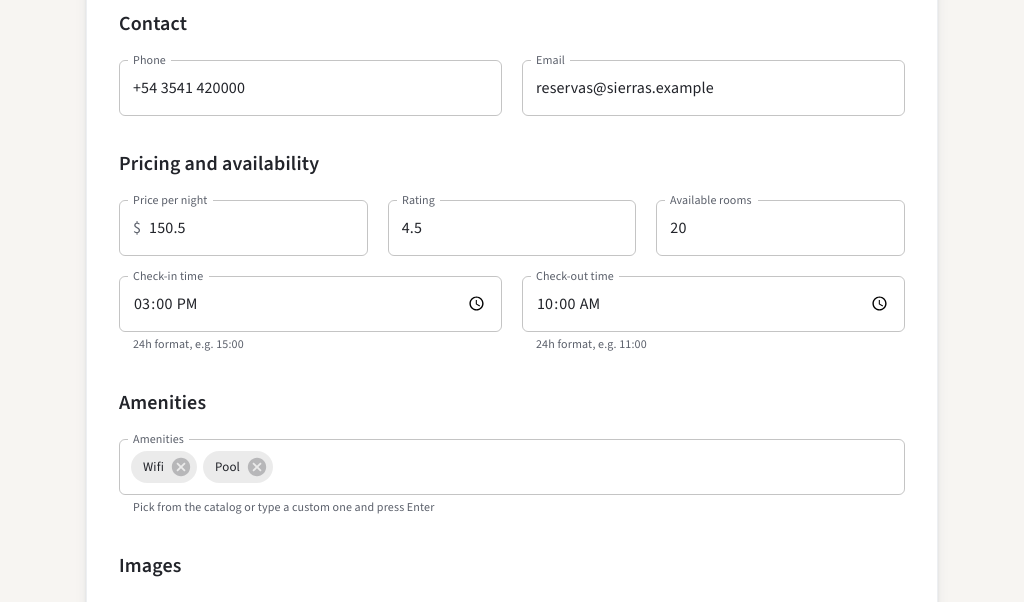
Test case: edición envía PUT completo con precio/capacidad/rating cero e imágenes vacías
This screenshot has width=1024, height=602.
(page scrolled)
Replace the text in the number field labelled "Price per night" with "0": coordinates (258, 228) x1=149 y1=200 x2=368 y2=256
Replace the text in the number field labelled "Available rooms" with "0": coordinates (781, 228) x1=656 y1=200 x2=905 y2=256
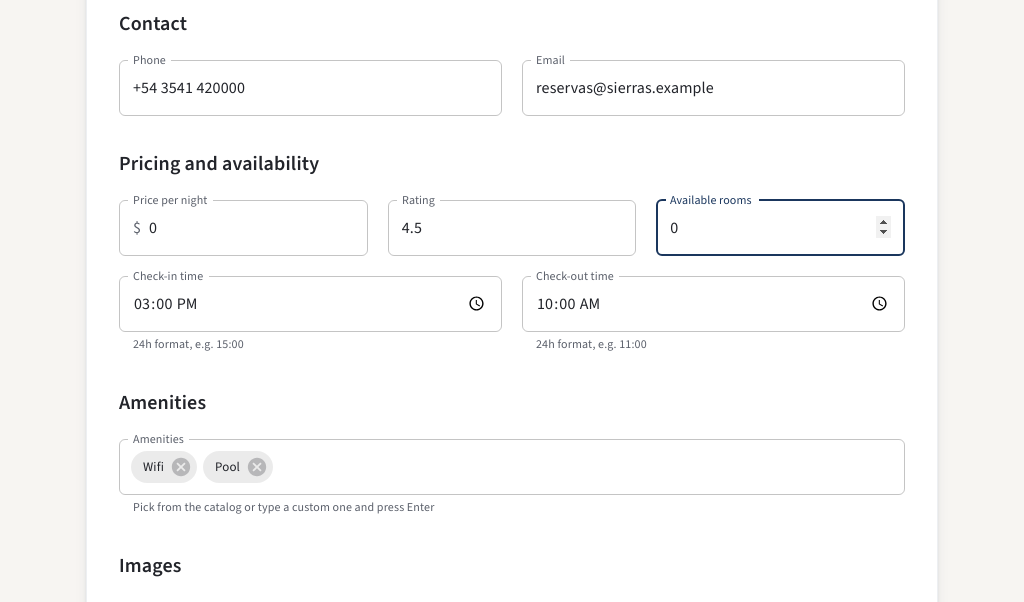
Replace the text in the number field labelled "Rating" with "0": coordinates (512, 228) x1=388 y1=200 x2=636 y2=256
(page scrolled)
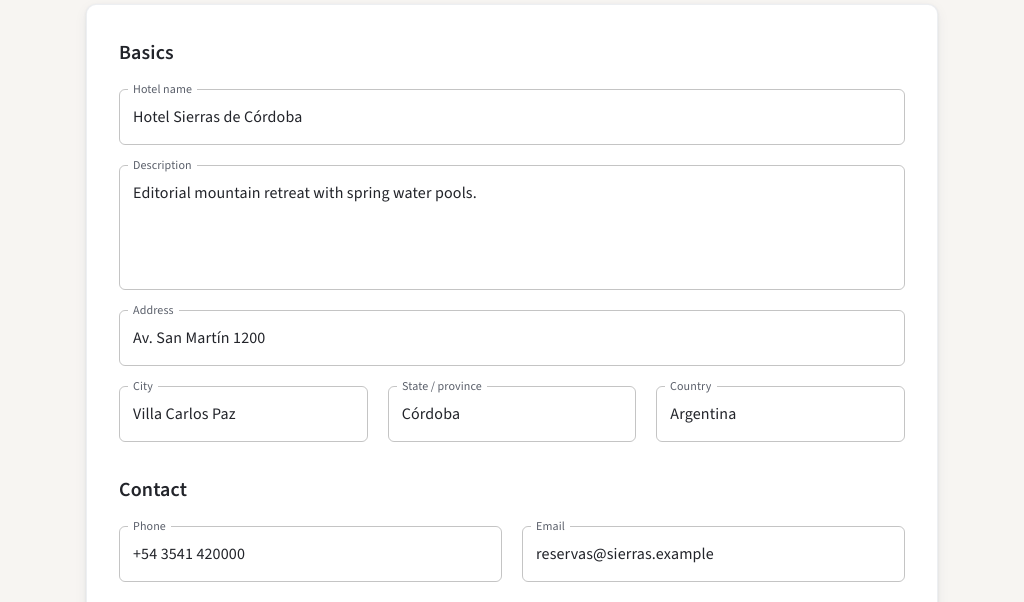
Clear the text box labelled "Description": coordinates (512, 227) x1=133 y1=181 x2=891 y2=273
(page scrolled)
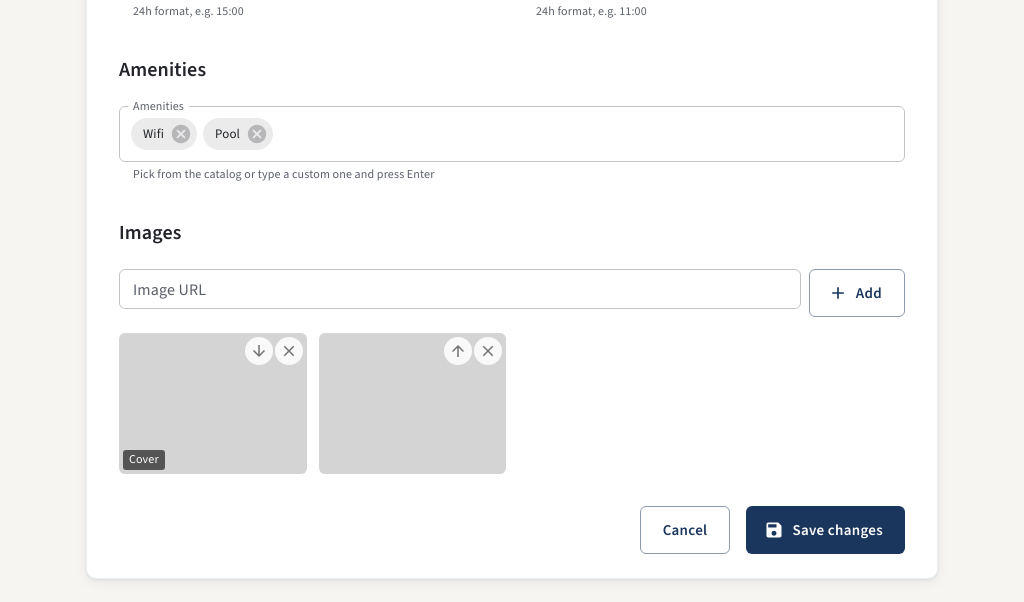
Click the button named "Remove image 1": coordinates (288, 351) x1=274 y1=337 x2=302 y2=365
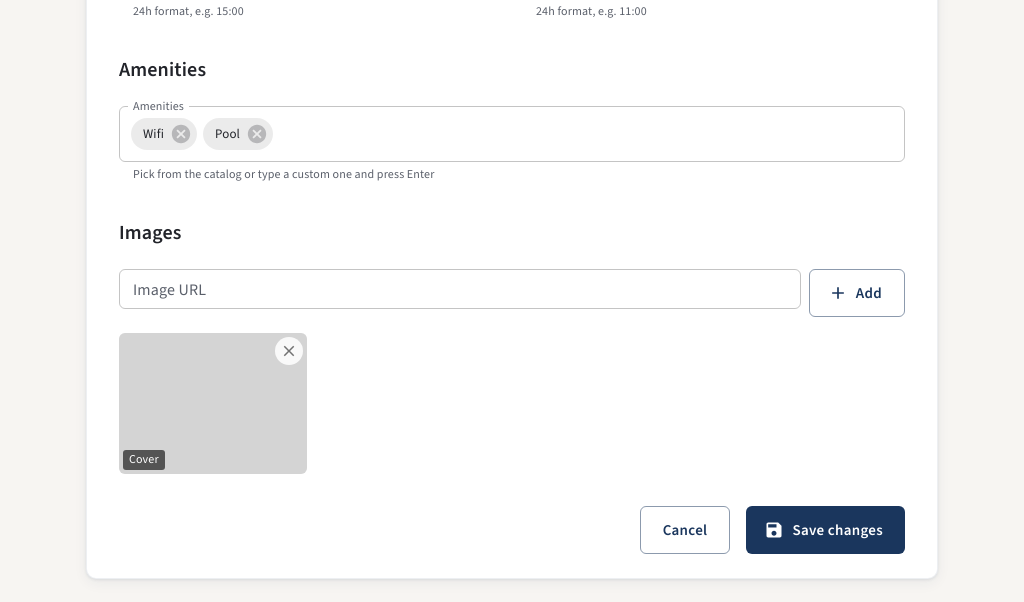
Click the button named "Remove image 1": coordinates (288, 351) x1=274 y1=337 x2=302 y2=365
(page scrolled)
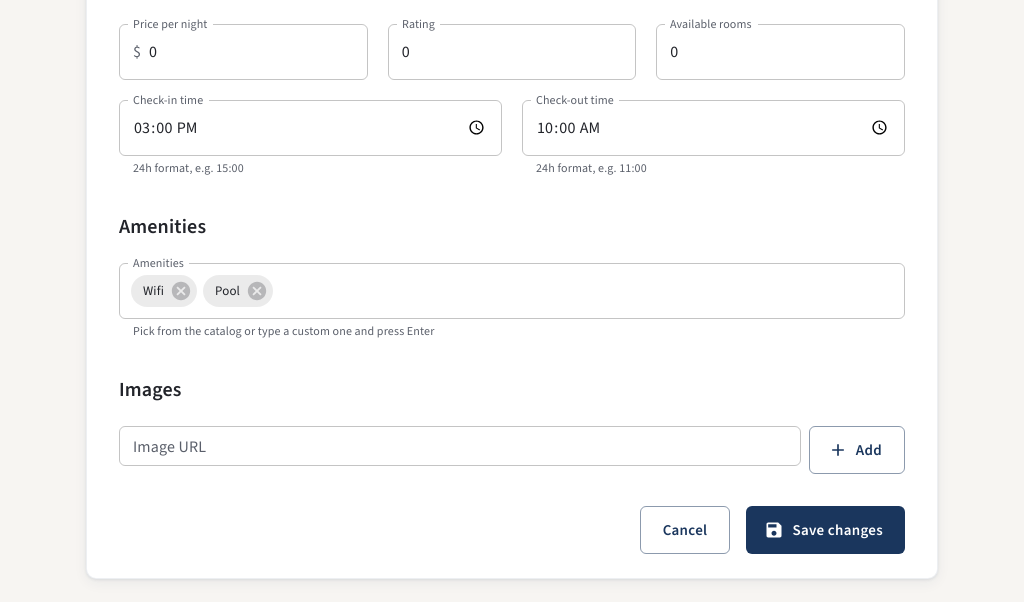
Click the button "Save changes": coordinates (826, 530) x1=746 y1=506 x2=905 y2=554
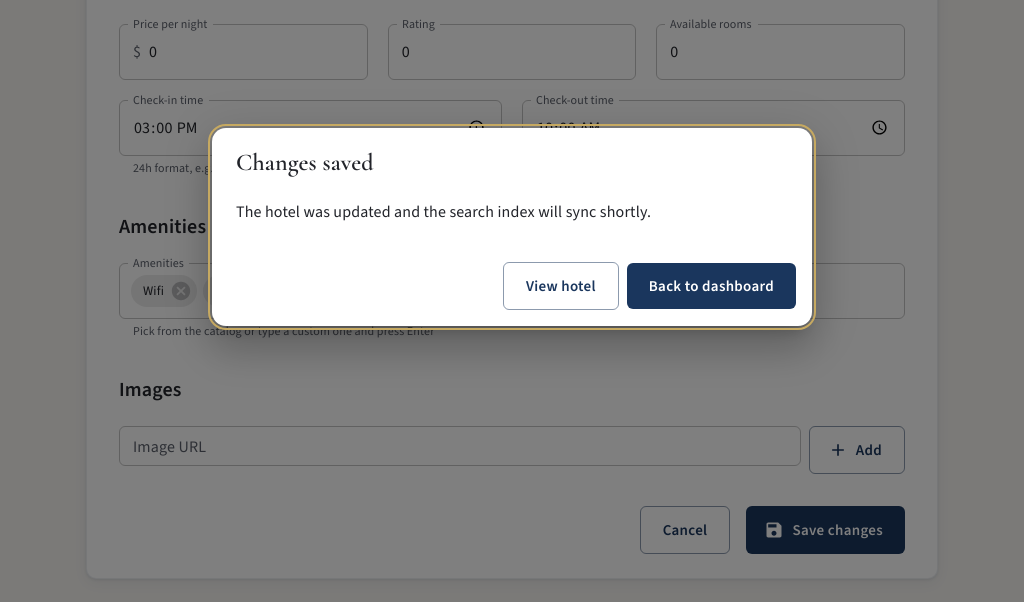
expect the dialog "Changes saved" is shown: met, box x1=212 y1=128 x2=812 y2=326
